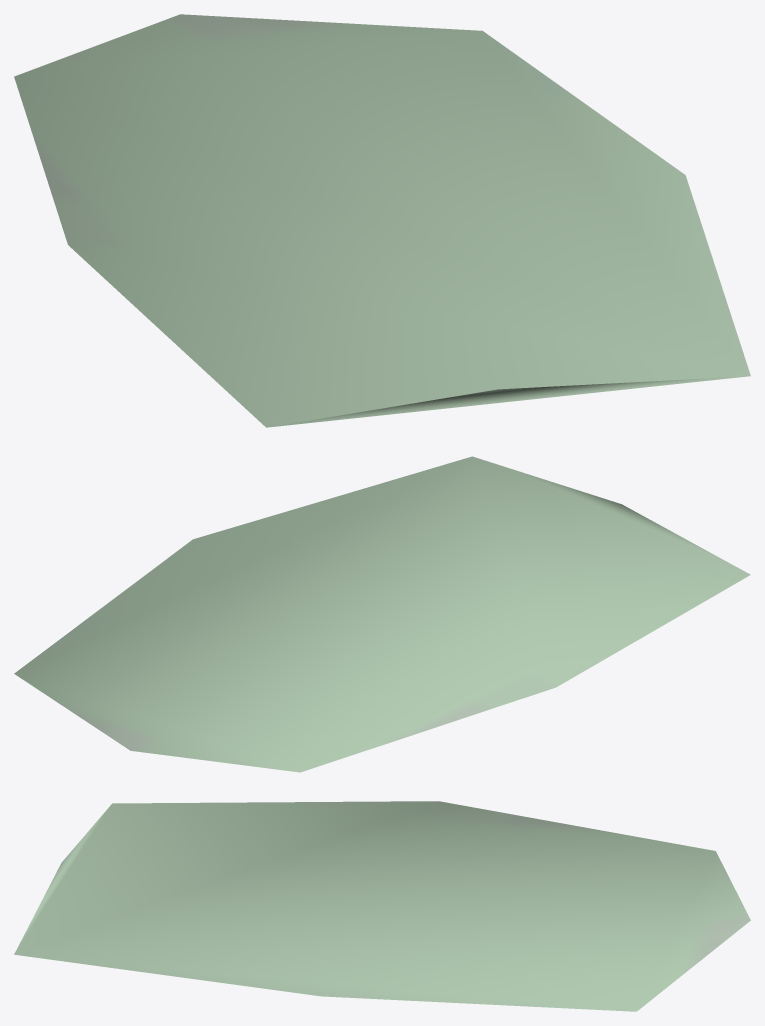
Rendered from TROLLHOLE02_HOLECAP154.fbx.
3 views of the same model, one above another, from view 1: azimuth 30°, elevation 25°; view 2: azimuth 150°, elevation 25°; view 3: azimuth 270°, elevation 25° (orthographic). The views are drawn at different scales.
Parts seen in each view (by area): view 1: TROLLHOLE02_HOLECAP154; view 2: TROLLHOLE02_HOLECAP154; view 3: TROLLHOLE02_HOLECAP154.
Boxes of the visible parts, x1,y1,x2,y2 form: TROLLHOLE02_HOLECAP154: (14,14,750,427); TROLLHOLE02_HOLECAP154: (14,456,750,772); TROLLHOLE02_HOLECAP154: (14,801,750,1011).
Bounding box in the file's own units: 31706 × 1013 × 48011.
1 material, 1 textured.
